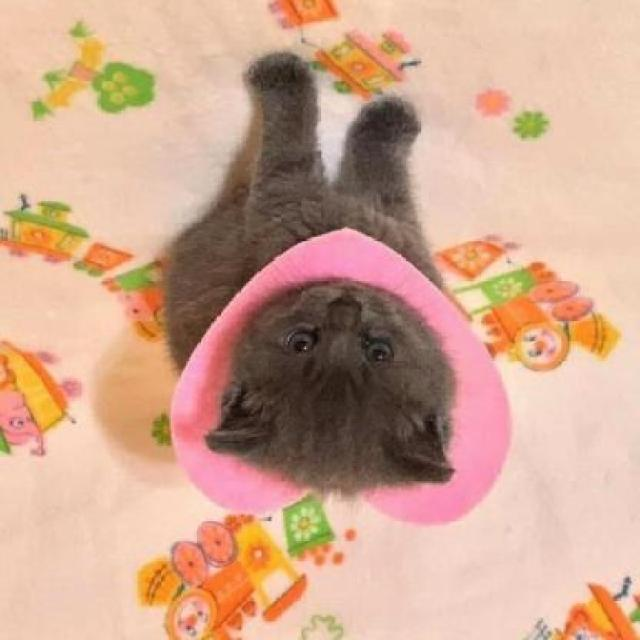cat: (119, 54, 466, 512)
